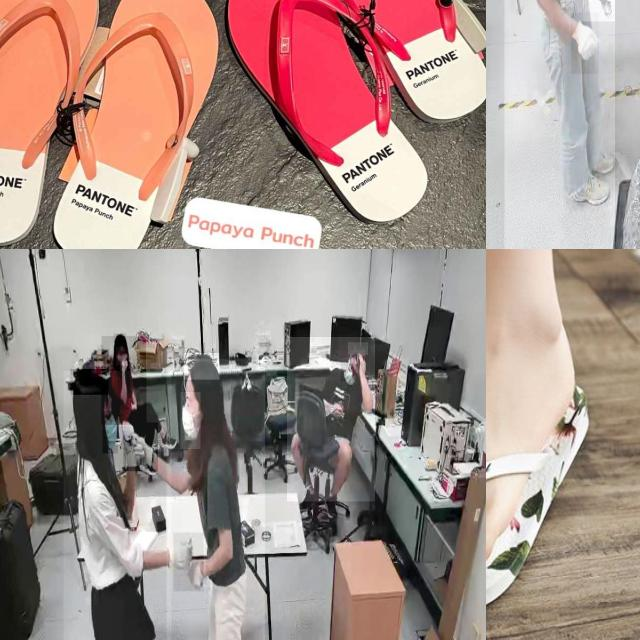Sandals: (214, 0, 486, 230), (0, 0, 234, 249), (486, 258, 614, 629)
face_mask: (180, 392, 200, 449), (102, 411, 118, 453), (340, 364, 358, 382)
face_nomask: (116, 347, 126, 366)
hand_glove: (174, 533, 204, 592), (571, 12, 599, 74), (124, 422, 158, 472), (582, 0, 615, 21)
hand_noglove: (357, 350, 366, 376), (331, 401, 343, 418), (120, 356, 128, 372)
head_nohelmet: (71, 369, 109, 396), (184, 353, 220, 381), (348, 342, 368, 356), (114, 334, 126, 344)
person: (63, 370, 172, 640), (166, 359, 265, 640), (504, 0, 615, 249), (287, 337, 375, 502), (102, 336, 146, 425)
shoes: (568, 168, 608, 212), (582, 142, 616, 176)
